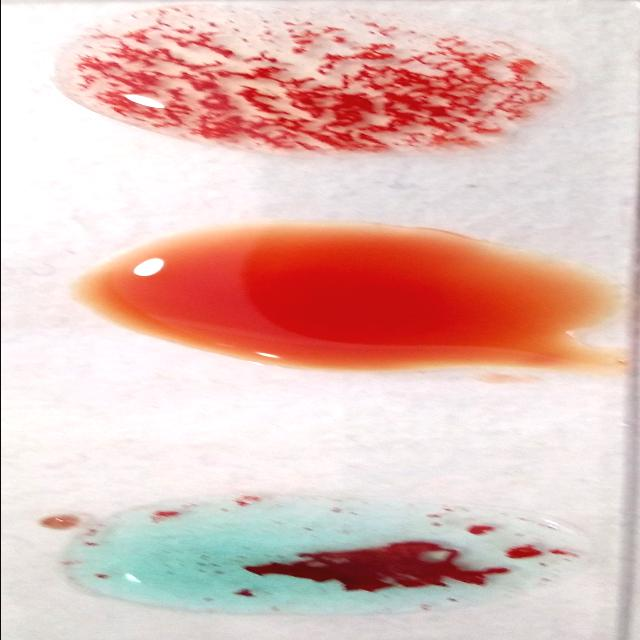A: (67, 500, 574, 616)
D: (38, 3, 560, 152)
